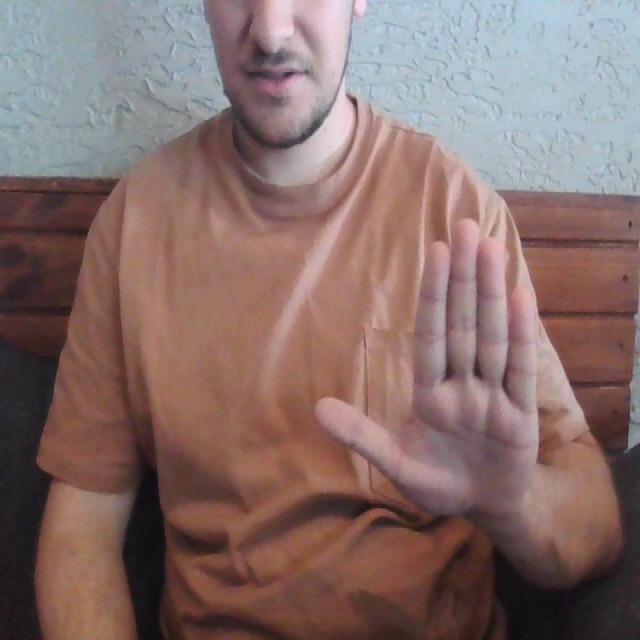Dur: (323, 209, 566, 566)
